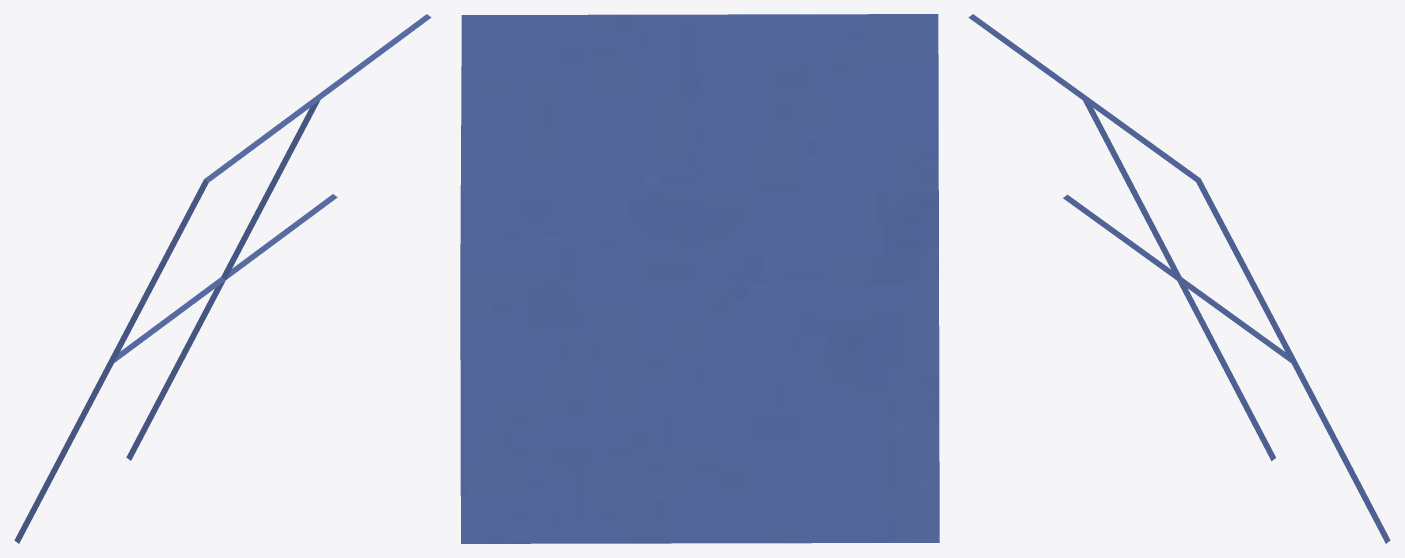
3 views of the same model, side by side, from view 1: azimuth 30°, elevation 25°; view 2: azimuth 150°, elevation 25°; view 3: azimuth 270°, elevation 25° (orthographic). The views are drawn at different scales.
Size of the model in its own units: 19689 by 17737 by 16546.
Materials: 1 (1 with a texture image).
